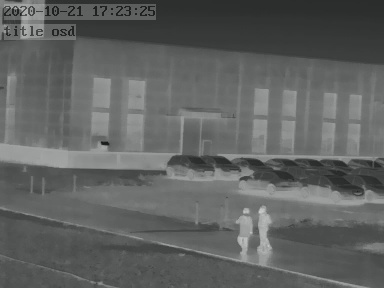person: (233, 207, 252, 259), (256, 204, 273, 254)
vehicle: (304, 173, 359, 200), (239, 169, 302, 191), (165, 152, 213, 179), (204, 153, 242, 177), (350, 173, 382, 200), (233, 154, 270, 171), (348, 155, 380, 170), (262, 155, 296, 169), (296, 155, 323, 169), (319, 156, 348, 169)
